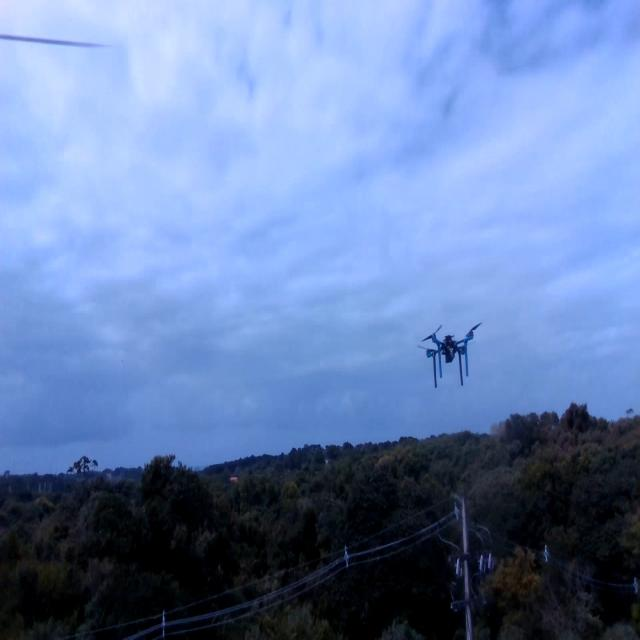-uav-: (401, 305, 493, 406)
